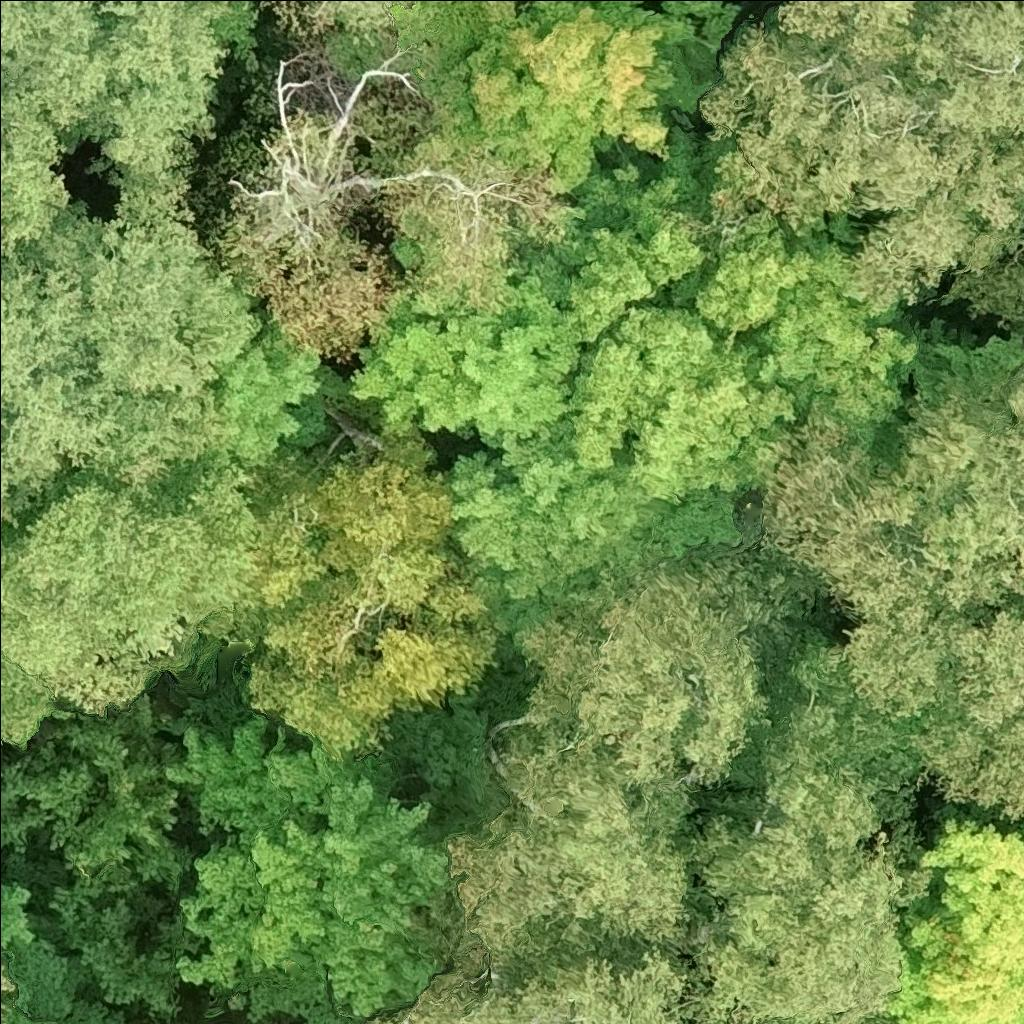crown: (442, 527, 834, 957), (444, 300, 802, 641), (768, 366, 1023, 821), (220, 70, 576, 363), (686, 642, 941, 1023), (0, 201, 268, 531), (167, 716, 460, 1016), (253, 462, 496, 751), (0, 460, 259, 718), (692, 204, 921, 462), (31, 687, 205, 1022), (446, 0, 736, 199), (699, 23, 948, 227), (349, 250, 579, 438), (505, 129, 706, 339), (815, 116, 1023, 315), (89, 0, 229, 234), (880, 820, 1023, 1023), (0, 0, 108, 256), (360, 943, 693, 1023), (206, 323, 325, 476), (0, 885, 125, 1023), (918, 0, 1023, 134), (780, 0, 916, 58), (257, 0, 414, 44), (0, 757, 63, 853), (0, 653, 59, 742), (518, 0, 535, 3)
